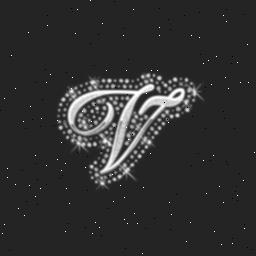v: (56, 78, 200, 188)
